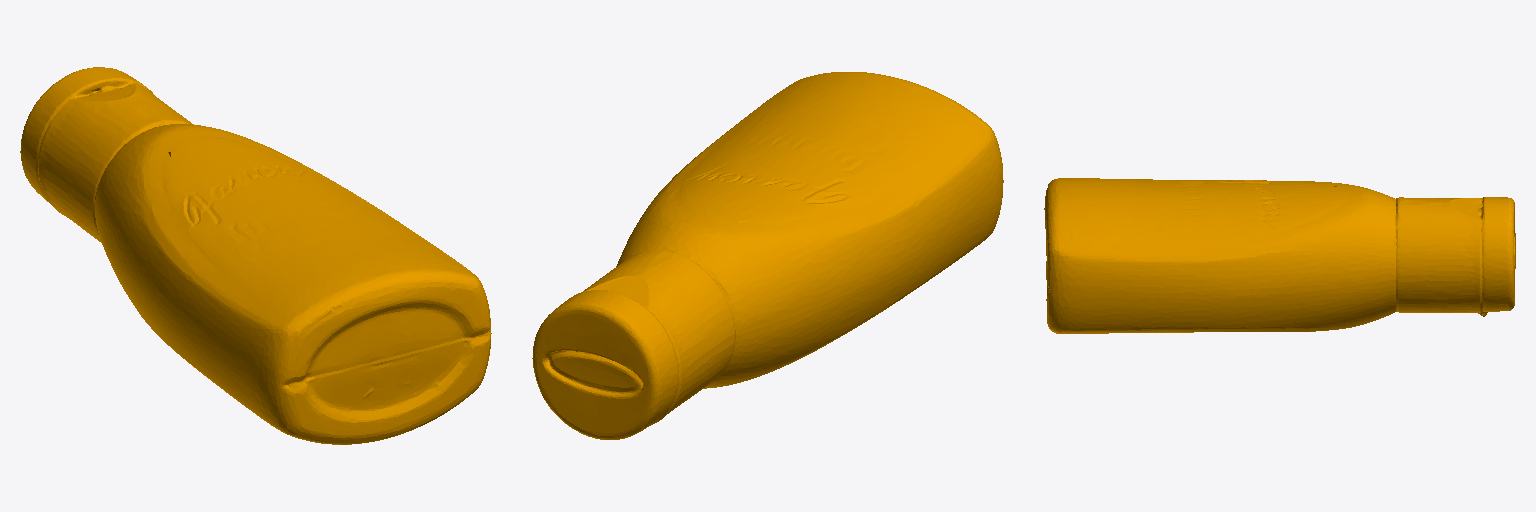
robot.urdf — ketchup:
<?xml version="1.0"?>
<!-- GENERATED by tasks/libero/build_env/build_object_urdf.py. Do not hand edit.

     LIBERO object `ketchup`, spawnable by the TRO-MP env.
     Role: graspable target object (envs/), one of the 22 LIBERO target assets.

     WHY a URDF when envs/ketchup/ may also hold a USD: this env spawns objects
     only through `assets.object_urdf` (scene_utils.py:1929, which calls
     _convert_urdf_to_usd at :1964). The assets dataclass declares no USD field,
     so a ready-made USD cannot be handed to this code path.

     Mesh coordinates are PRESERVED, not re-centred: 11 of 22 LIBERO envs have
     their mesh origin at the object's base, and `goal_traj` tracks that origin.
     Re-centring would offset the object from its own trajectory every frame.

     Mass: density 800.0 kg/m^3 x mesh volume 2.592428e-04 m^3
     Inertia: solid-box approximation about the COM at that mass, NOT the true
     mesh inertia tensor. Adequate for a graspable tabletop object; revisit if
     spin dynamics matter.

     Collision: the full mesh, decomposed by Isaac's URDF importer. The convex
     decomposition authored in the DexVerse USD is NOT reproduced here.
-->
<robot name="ketchup">
  <link name="ketchup">
    <inertial>
      <origin xyz="0.000026 -0.011178 0.000232" rpy="0 0 0"/>
      <mass value="0.207394"/>
      <inertia ixx="4.141848e-04" ixy="0" ixz="0" iyy="1.044373e-04" iyz="0" izz="4.536108e-04"/>
    </inertial>
    <visual>
      <origin xyz="0 0 0" rpy="0 0 0"/>
      <geometry><mesh filename="ketchup.obj" scale="1 1 1"/></geometry>
    </visual>
    <collision>
      <origin xyz="0 0 0" rpy="0 0 0"/>
      <geometry><mesh filename="ketchup.obj" scale="1 1 1"/></geometry>
    </collision>
  </link>
</robot>

--- Facts derived from the render (not from the file) ---
The picture shows the robot from 3 angles, left to right: view 1: azimuth 30°, elevation 25°; view 2: azimuth 150°, elevation 25°; view 3: azimuth 270°, elevation 25°; orthographic projection.
Robot: ketchup — 1 links, 0 joints (none); root link ketchup; default pose: every joint at zero.
Visible links, largest first — view 1: ketchup; view 2: ketchup; view 3: ketchup.
Link boxes in pixels (x1=…): ketchup: x1=20, y1=67, x2=491, y2=444; ketchup: x1=532, y1=72, x2=1003, y2=439; ketchup: x1=1044, y1=178, x2=1515, y2=333.
Bounding box of the posed robot: 0.0645 × 0.1486 × 0.0434 m (x, y, z).
Meshes: 1 distinct files referenced, 1 mesh visuals loaded (1 OBJ).
